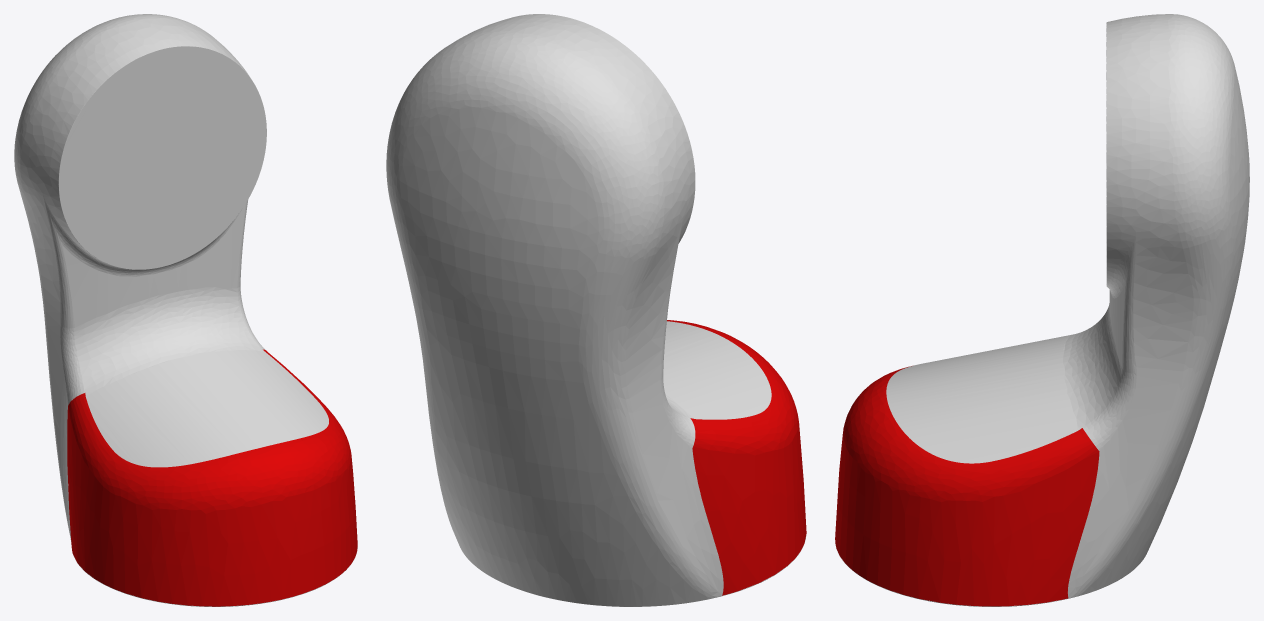
The picture shows the model from 3 angles, left to right: view 1: azimuth 30°, elevation 25°; view 2: azimuth 150°, elevation 25°; view 3: azimuth 270°, elevation 25°; orthographic projection. The views are drawn at different scales.
Parts seen in each view (by area): view 1: Untitled_001, Untitled; view 2: Untitled_001, Untitled; view 3: Untitled_001, Untitled.
Part boxes in pixels (bbox=[...]): Untitled_001: bbox=[14, 14, 357, 606]; Untitled: bbox=[67, 349, 357, 606]; Untitled_001: bbox=[386, 14, 806, 606]; Untitled: bbox=[667, 320, 806, 595]; Untitled_001: bbox=[837, 14, 1249, 606]; Untitled: bbox=[835, 366, 1099, 606].
Bounding box in the file's own units: 0.113 × 0.1489 × 0.2034.
